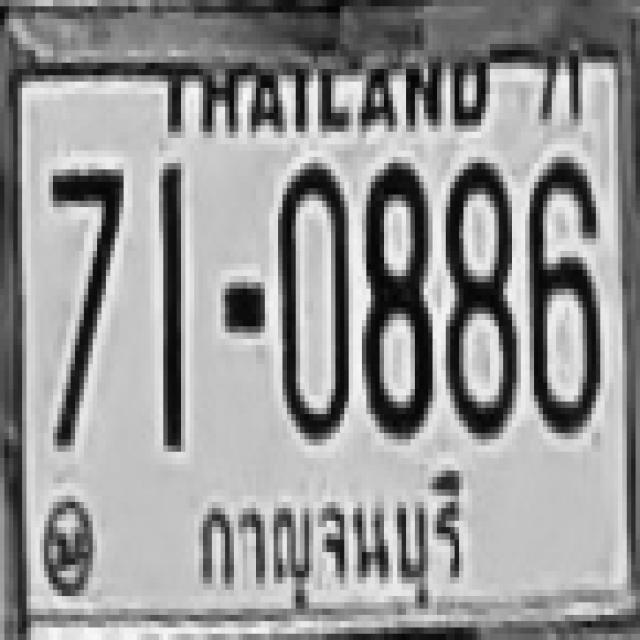0: (276, 157, 346, 433)
1: (159, 163, 181, 433)
6: (525, 154, 596, 430)
7: (49, 163, 119, 446), (49, 166, 119, 354)
8: (441, 157, 512, 433), (362, 157, 428, 433)
Kanchanaburi: (190, 476, 475, 623)
